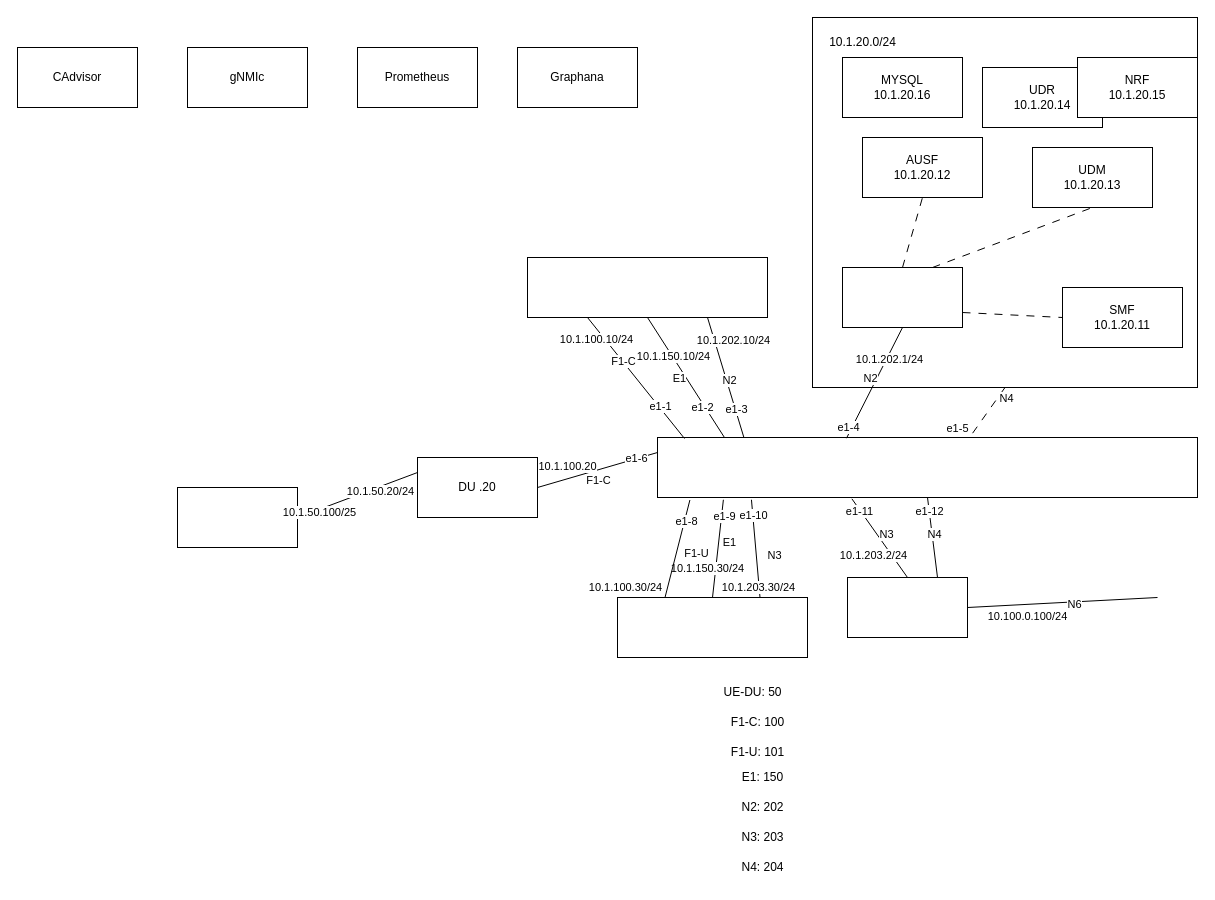
The diagram is 1215 pixels wide and 900 high, and some of its shapes have lost their labels. The shapes that lost their labels are listed below. From the top down, each one's box as (x1, y1, x2, y2) in pixels, then its label:
(526, 256, 768, 318): CU-CP .10
(842, 266, 962, 328): AMF 10.1.20.10
(176, 486, 298, 548): UE .100
(616, 596, 808, 658): CU-UP .30
(846, 576, 968, 638): UPF .40 10.1.20.100
